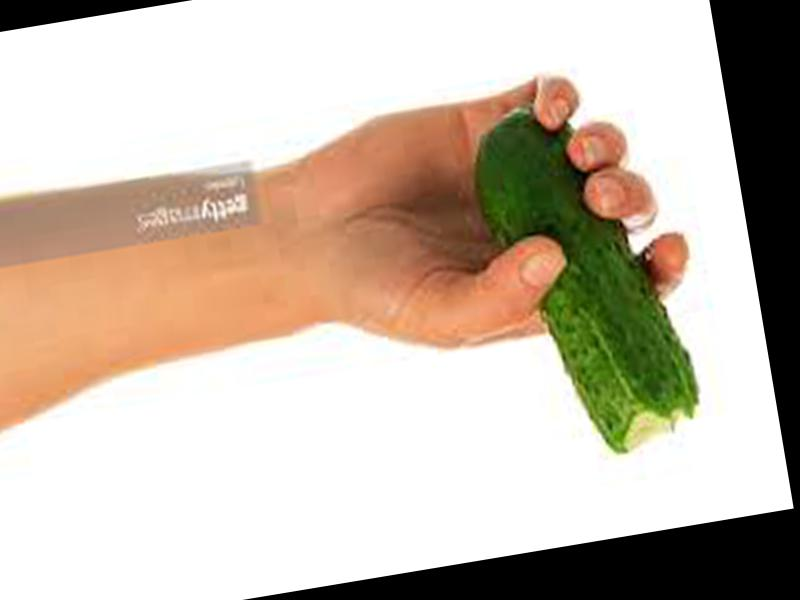Cucumber: (466, 90, 705, 469)
